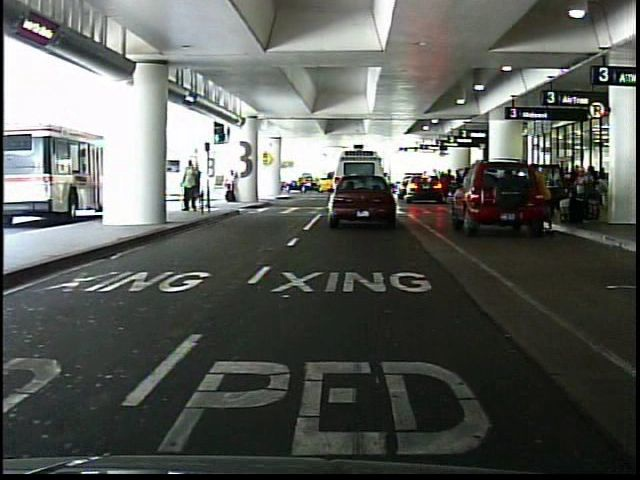person: (528, 158, 556, 228), (178, 157, 197, 214), (224, 167, 243, 206), (193, 162, 207, 211)
